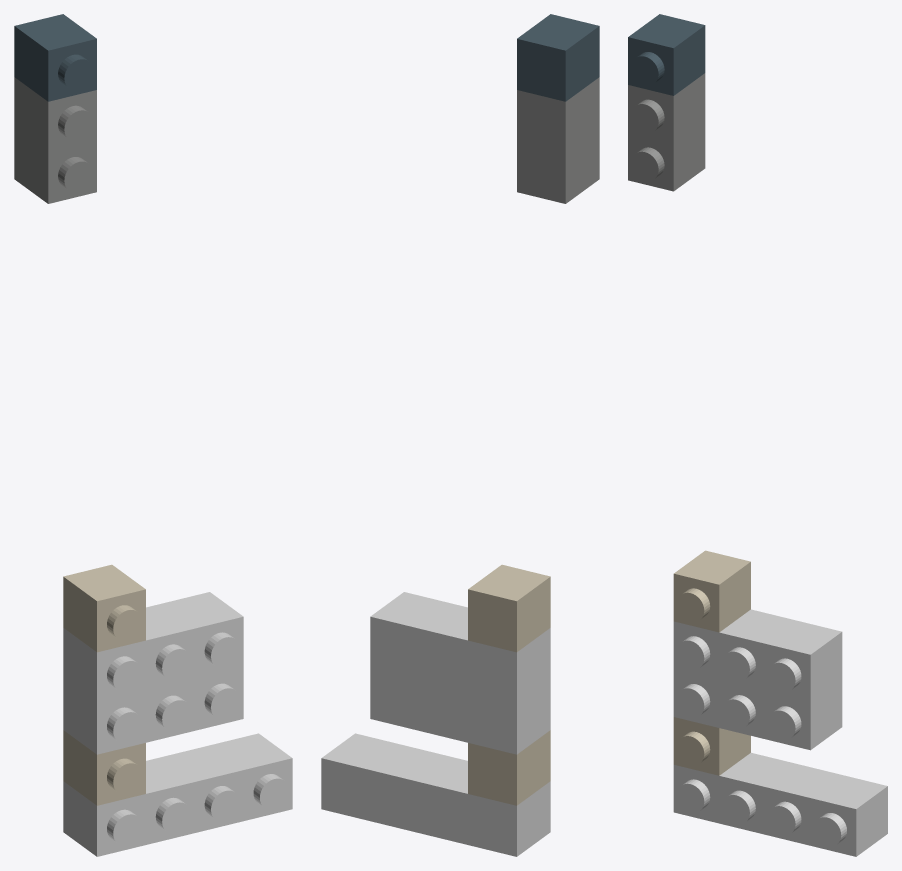
File: current.glb
3 renders of one model, left to right at view 1: azimuth 30°, elevation 25°; view 2: azimuth 150°, elevation 25°; view 3: azimuth 330°, elevation 25°, orthographic. The views are drawn at different scales.
Parts seen in each view (by area): view 1: world; view 2: world; view 3: world.
Boxes of the visible parts, x1,y1,x2,y2 form: world: [14, 14, 292, 856]; world: [321, 14, 599, 856]; world: [628, 14, 887, 856].
Bounding box in the file's own units: 40 × 128 × 11.4.
